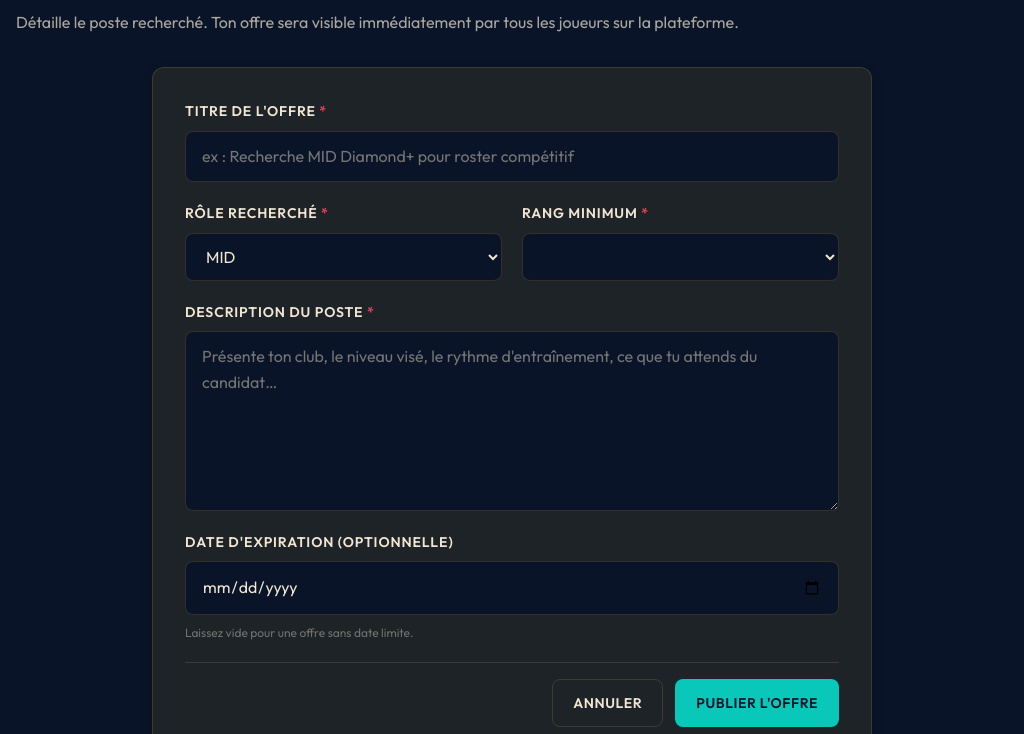
Scenario: CreateOfferPage › shows validation errors on empty submit
(page scrolled)
Click the button "Publier l'offre" at (757, 703), box [675,679,839,727]
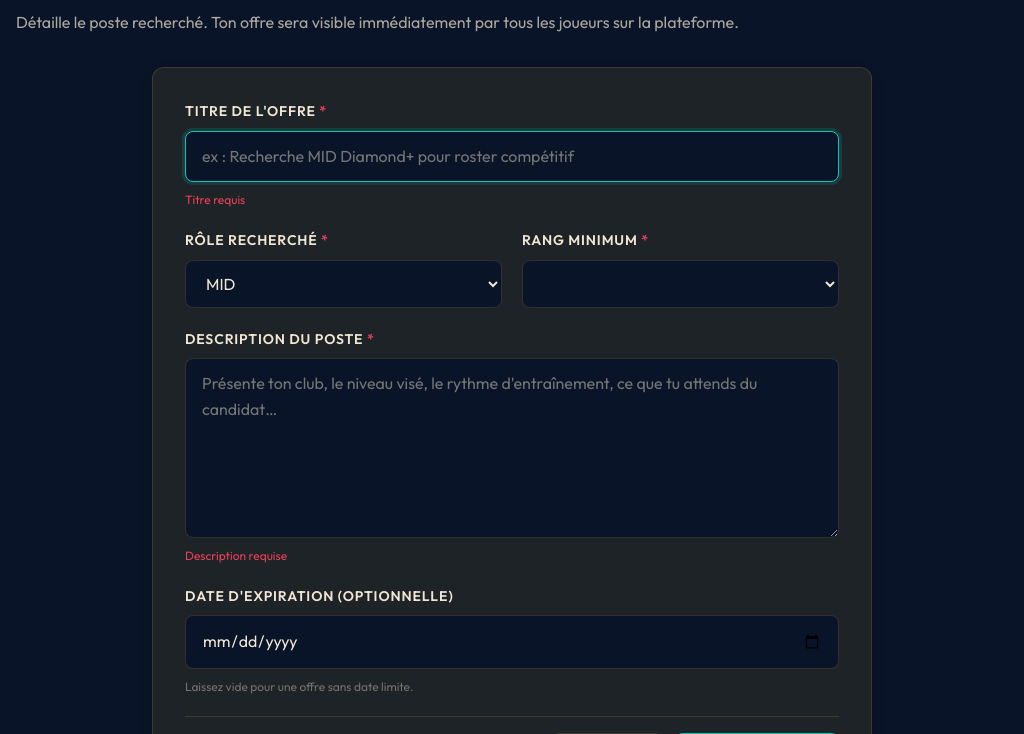
Expected: the text "Titre requis" is shown, [185,192,245,207]
Expected: the text "Description requise" is shown, [185,548,287,563]
